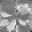people: (17, 4, 30, 16), (7, 19, 16, 32), (18, 18, 30, 26), (0, 19, 10, 27), (0, 12, 12, 18)
